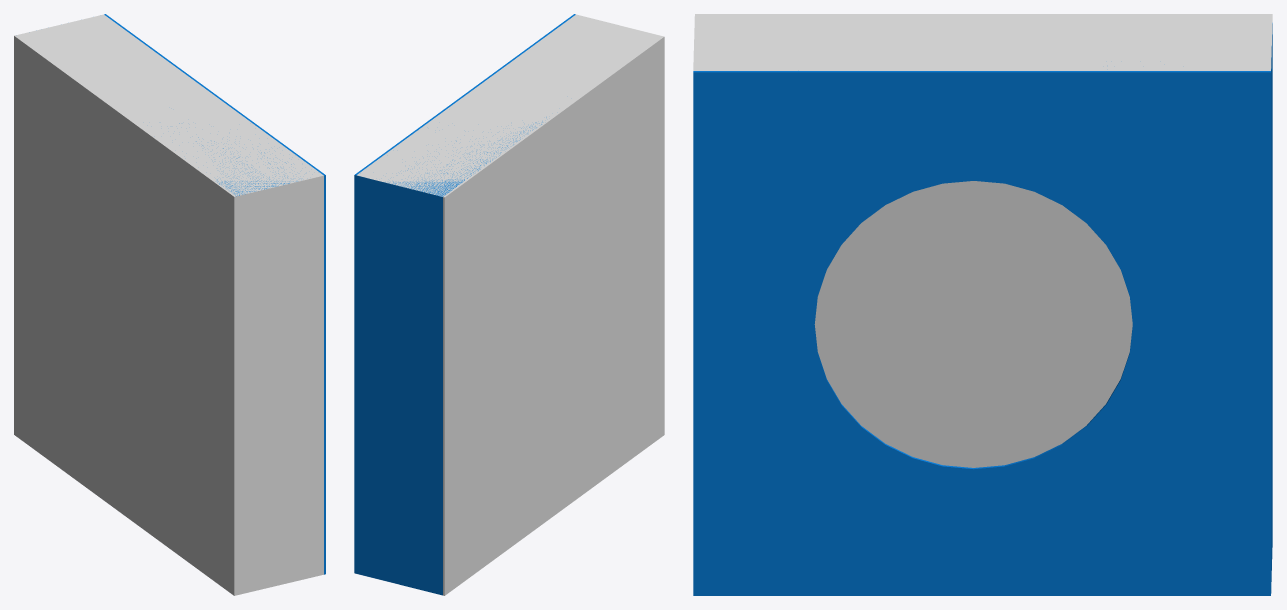
File: Relief.gltf
3 renders of one model, left to right at view 1: azimuth 30°, elevation 25°; view 2: azimuth 150°, elevation 25°; view 3: azimuth 270°, elevation 25°, orthographic. The views are drawn at different scales.
Visible parts, largest first — view 1: COL, Cube; view 2: COL, Cube; view 3: Cube, COL.
Part boxes in pixels (<box>): COL: <box>14,14,323,595</box>; Cube: <box>104,14,325,574</box>; COL: <box>357,14,664,595</box>; Cube: <box>354,14,575,595</box>; Cube: <box>693,23,1272,595</box>; COL: <box>693,14,1272,467</box>.
Bounding box in the file's own units: 2.24 × 9.4 × 9.43.
